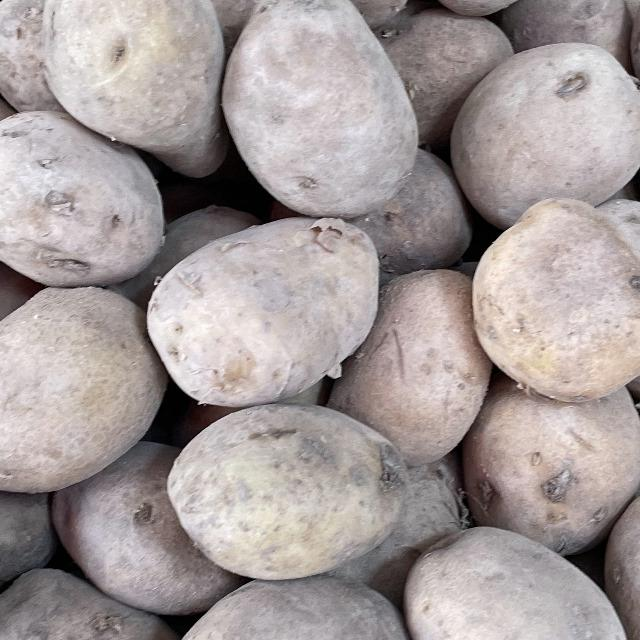potato: (155, 378, 415, 592), (217, 0, 432, 232), (452, 175, 640, 412), (450, 22, 640, 215), (0, 97, 177, 292), (387, 505, 640, 640), (0, 552, 225, 640)
